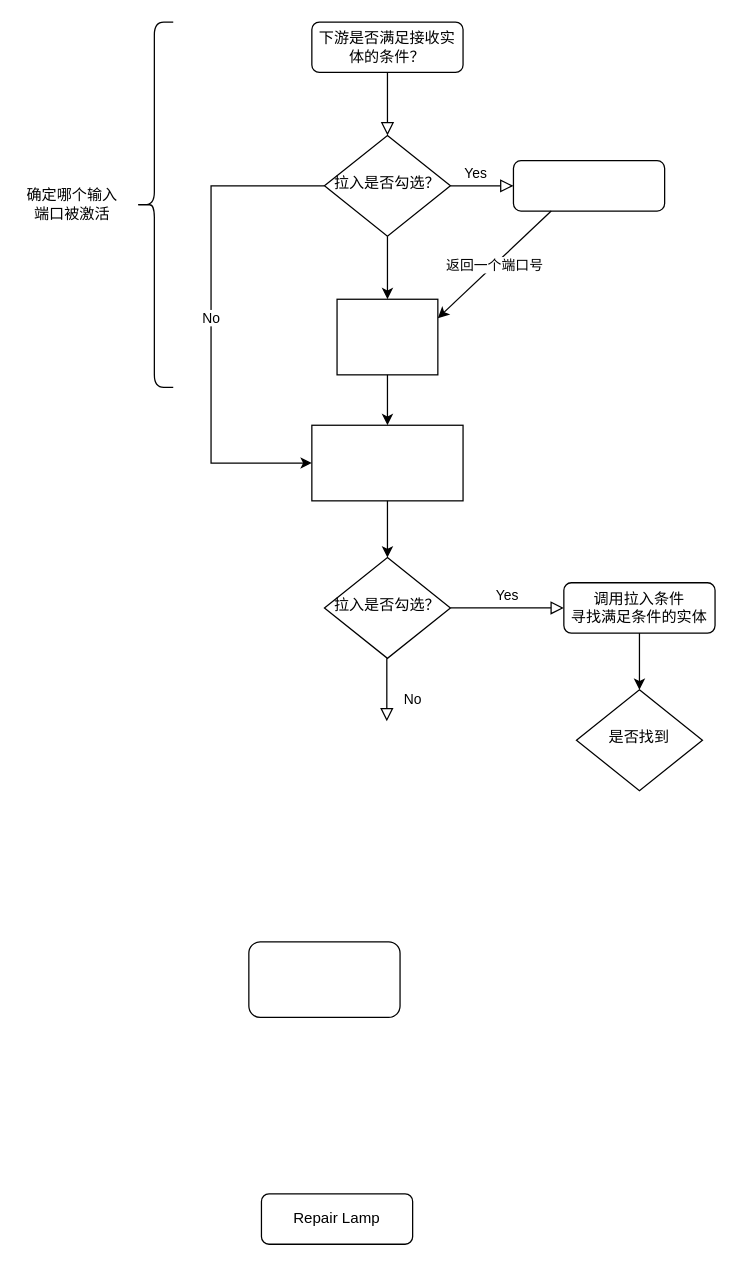
Image size: 737x1266. Some labels were removed from this diagram. Here are the shapes that lost their labels. From the top down, the centre of each, then its label:
(588,185): 调用拉入策略
(387,336): 实体打开指定输入端口
(387,462): 上游临时实体准备发送过来
